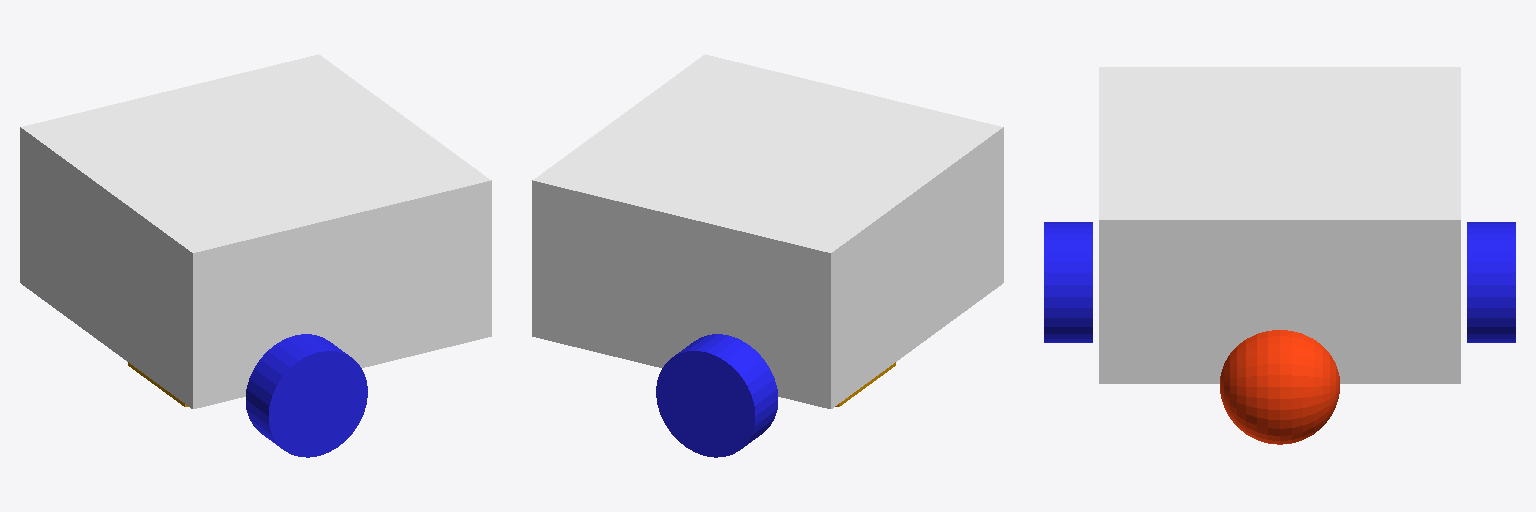
robot.urdf — bob:
<?xml version="1.0" ?>
<!-- =================================================================================== -->
<!-- |    This document was autogenerated by xacro from WORKINGrobot_core.xacro        | -->
<!-- |    EDITING THIS FILE BY HAND IS NOT RECOMMENDED                                 | -->
<!-- =================================================================================== -->
<robot name="bob">
  <!-- Specify some standard inertial calculations https://en.wikipedia.org/wiki/List_of_moments_of_inertia -->
  <!-- These make use of xacro's mathematical functionality -->
  <!-- Materials -->
  <material name="white">
    <color rgba="1 1 1 1"/>
  </material>
  <material name="orange">
    <color rgba="1 0.3 0.1 1"/>
  </material>
  <material name="blue">
    <color rgba="0.2 0.2 1 1"/>
  </material>
  <material name="black">
    <color rgba="0 0 0 1"/>
  </material>
  <!-- Links -->
  <!-- Base Link -->
  <link name="base_link">
    <visual>
      <origin xyz="0 0 0"/>
      <geometry>
        <box size="0.1 0.1 0.1"/>
      </geometry>
    </visual>
  </link>
  <gazebo reference="base_link">
    <material>Gazebo/Red</material>
  </gazebo>
  <!-- Chassis -->
  <joint name="chassis_joint" type="fixed">
    <parent link="base_link"/>
    <child link="chassis"/>
    <origin xyz="-0.1 0 0"/>
    <limit effort="100.0" lower="-1.57" upper="1.57" velocity="0.5"/>
  </joint>
  <link name="chassis">
    <visual>
      <origin xyz="0.15 0 0.075"/>
      <geometry>
        <box size="0.3 0.3 0.15"/>
      </geometry>
      <material name="white"/>
    </visual>
    <collision>
      <origin xyz="0.15 0 0.075"/>
      <geometry>
        <box size="0.3 0.3 0.15"/>
      </geometry>
    </collision>
    <inertial>
      <mass value="1.0"/>
      <inertia ixx="0.009374999999999998" ixy="0.0" ixz="0.0" iyy="0.009374999999999998" iyz="0.0" izz="0.015"/>
      <origin rpy="0 0 0" xyz="0.15 0 0.75"/>
    </inertial>
  </link>
  <!-- Left Wheel -->
  <joint name="left_wheel_joint" type="continuous">
    <parent link="base_link"/>
    <child link="left_wheel"/>
    <origin rpy="-1.5707963267948966 0 0" xyz="0.0 0.175 0.0"/>
    <axis xyz="0 0 1"/>
    <limit effort="100.0" lower="-1.57" upper="1.57" velocity="0.5"/>
  </joint>
  <link name="left_wheel">
    <visual>
      <geometry>
        <cylinder length="0.04" radius="0.05"/>
      </geometry>
      <material name="blue"/>
    </visual>
    <collision>
      <geometry>
        <cylinder length="0.04" radius="0.05"/>
      </geometry>
    </collision>
    <inertial>
      <mass value="0.1"/>
      <inertia ixx="7.583333333333335e-05" ixy="0.0" ixz="0.0" iyy="7.583333333333335e-05" iyz="0.0" izz="0.00012500000000000003"/>
      <origin rpy="0 0 0" xyz="0 0 0"/>
    </inertial>
  </link>
  <!-- Right Wheel -->
  <joint name="right_wheel_joint" type="continuous">
    <parent link="base_link"/>
    <child link="right_wheel"/>
    <origin rpy="1.5707963267948966 0 0" xyz="0.0 -0.175 0.0"/>
    <axis xyz="0 0 -1"/>
    <limit effort="100.0" lower="-1.57" upper="1.57" velocity="0.5"/>
  </joint>
  <link name="right_wheel">
    <visual>
      <geometry>
        <cylinder length="0.04" radius="0.05"/>
      </geometry>
      <material name="blue"/>
    </visual>
    <collision>
      <geometry>
        <cylinder length="0.04" radius="0.05"/>
      </geometry>
    </collision>
    <inertial>
      <mass value="0.1"/>
      <inertia ixx="7.583333333333335e-05" ixy="0.0" ixz="0.0" iyy="7.583333333333335e-05" iyz="0.0" izz="0.00012500000000000003"/>
      <origin rpy="0 0 0" xyz="0 0 0"/>
    </inertial>
  </link>
  <!-- Caster Wheel -->
  <joint name="caster_wheel_joint" type="fixed">
    <parent link="base_link"/>
    <child link="caster"/>
    <origin rpy="-1.5707963267948966 0 0" xyz="0.2 0 0"/>
  </joint>
  <link name="caster">
    <visual>
      <geometry>
        <sphere radius="0.05"/>
      </geometry>
      <material name="orange"/>
    </visual>
    <collision>
      <geometry>
        <sphere radius="0.05"/>
      </geometry>
    </collision>
    <inertial>
      <mass value="0.1"/>
      <inertia ixx="0.00010000000000000005" ixy="0.0" ixz="0.0" iyy="0.00010000000000000005" iyz="0.0" izz="0.00010000000000000005"/>
      <origin rpy="0 0 0" xyz="0 0 0"/>
    </inertial>
  </link>
</robot>

--- Facts derived from the render (not from the file) ---
Views: 3 orthographic renders of the robot side by side, from view 1: azimuth 30°, elevation 25°; view 2: azimuth 150°, elevation 25°; view 3: azimuth 270°, elevation 25°.
Robot: bob — 5 links, 4 joints (2 continuous, 2 fixed); root link base_link; default pose: every joint at zero.
Links seen in each view (by area): view 1: chassis, right_wheel; view 2: chassis, left_wheel; view 3: chassis, caster, left_wheel, right_wheel.
Link boxes in pixels (left/top/right/bottom): chassis: left=20, top=54, right=491, bottom=408; right_wheel: left=246, top=334, right=367, bottom=457; chassis: left=532, top=54, right=1003, bottom=408; left_wheel: left=656, top=334, right=777, bottom=457; chassis: left=1099, top=67, right=1460, bottom=383; caster: left=1220, top=330, right=1339, bottom=444; left_wheel: left=1467, top=222, right=1515, bottom=342; right_wheel: left=1044, top=222, right=1092, bottom=342.
Size in the robot's own frame: 0.35 by 0.39 by 0.2 metres.
Geometry: primitives only (box / cylinder / sphere), no mesh files.
